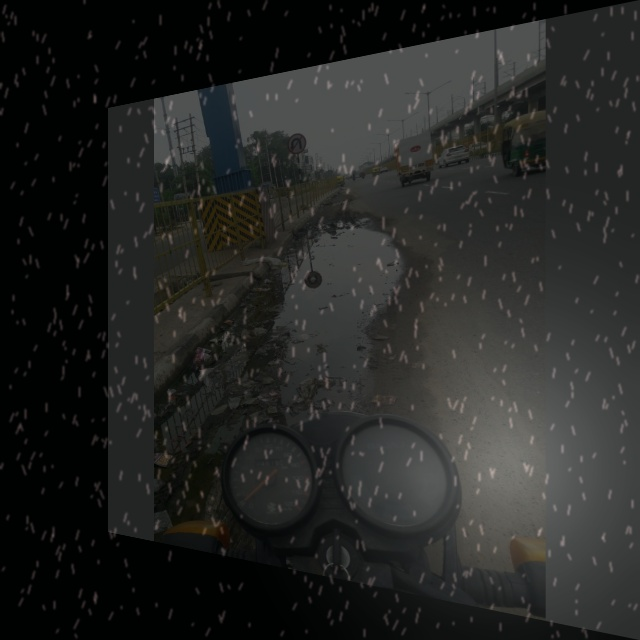U_Turn_Prohibited: (286, 130, 308, 158)
